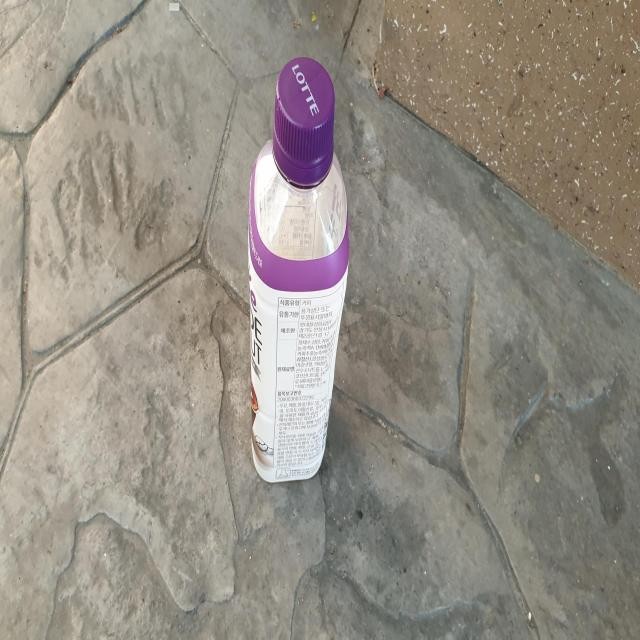plastic: (248, 55, 349, 481)
